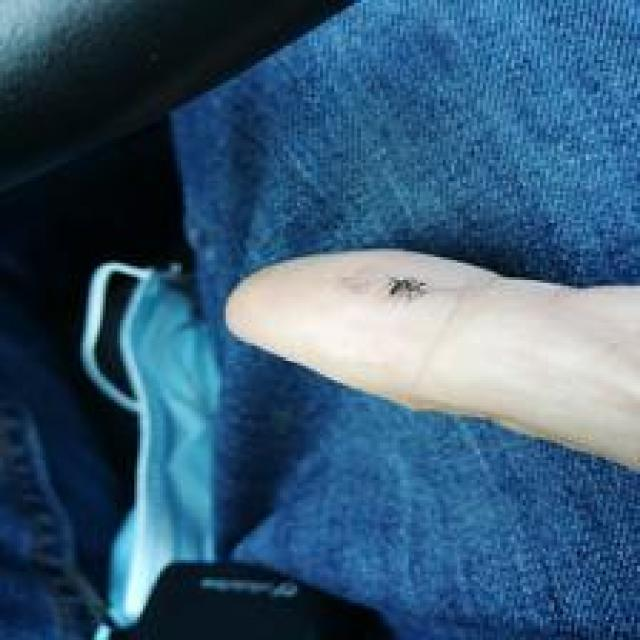Aedes albopictus: (223, 242, 640, 504)
